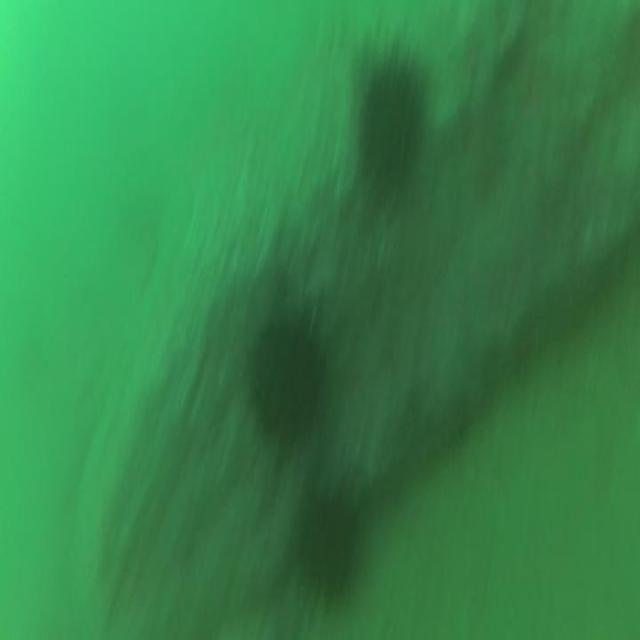echinus: (252, 321, 322, 438), (358, 64, 420, 190), (300, 498, 354, 596)
